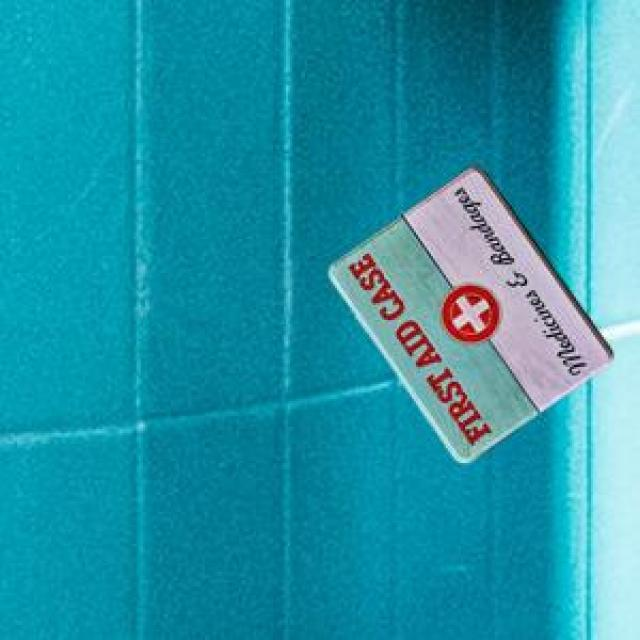logam: (325, 163, 609, 460)
